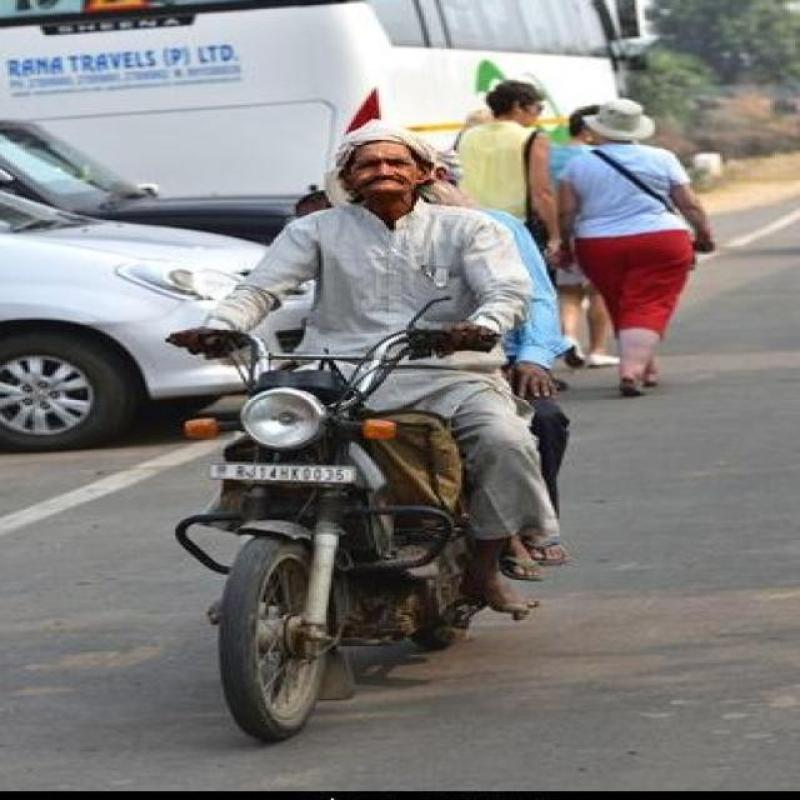nohelmet: (326, 125, 454, 219)
